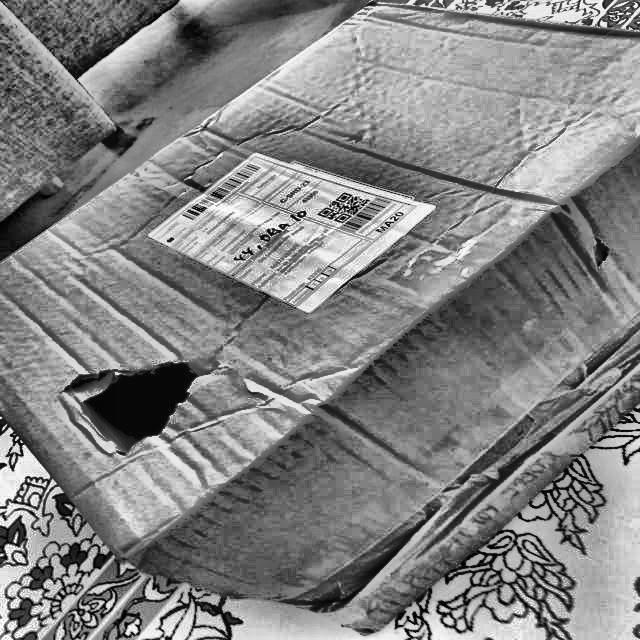box: (0, 3, 639, 636)
hole: (57, 346, 205, 464)
